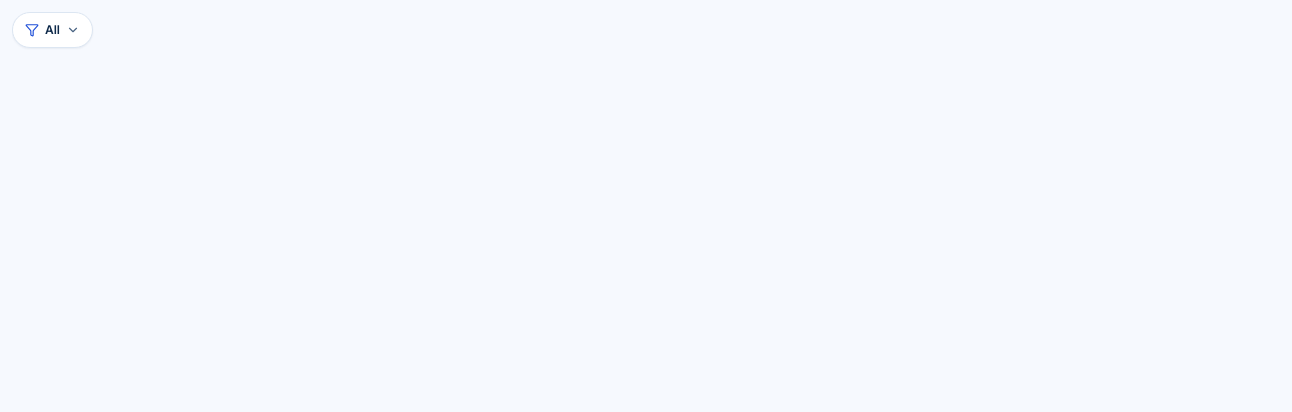
Scenario: QueueFilterDropdown › opens a status menu with counts and preserves search
Click the button "All": (52, 30) left=12, top=12, right=93, bottom=48
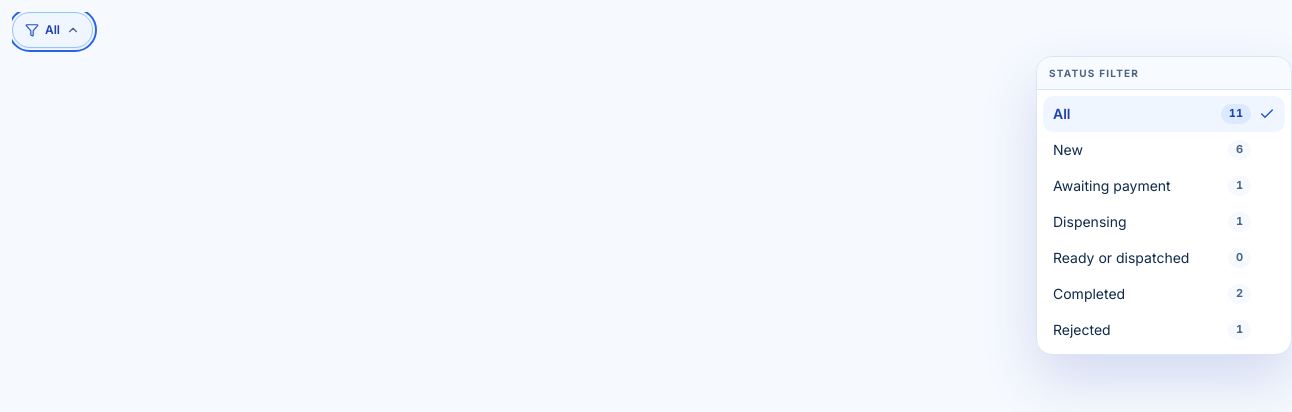
expect the list is shown: met, box left=1036, top=56, right=1291, bottom=355
